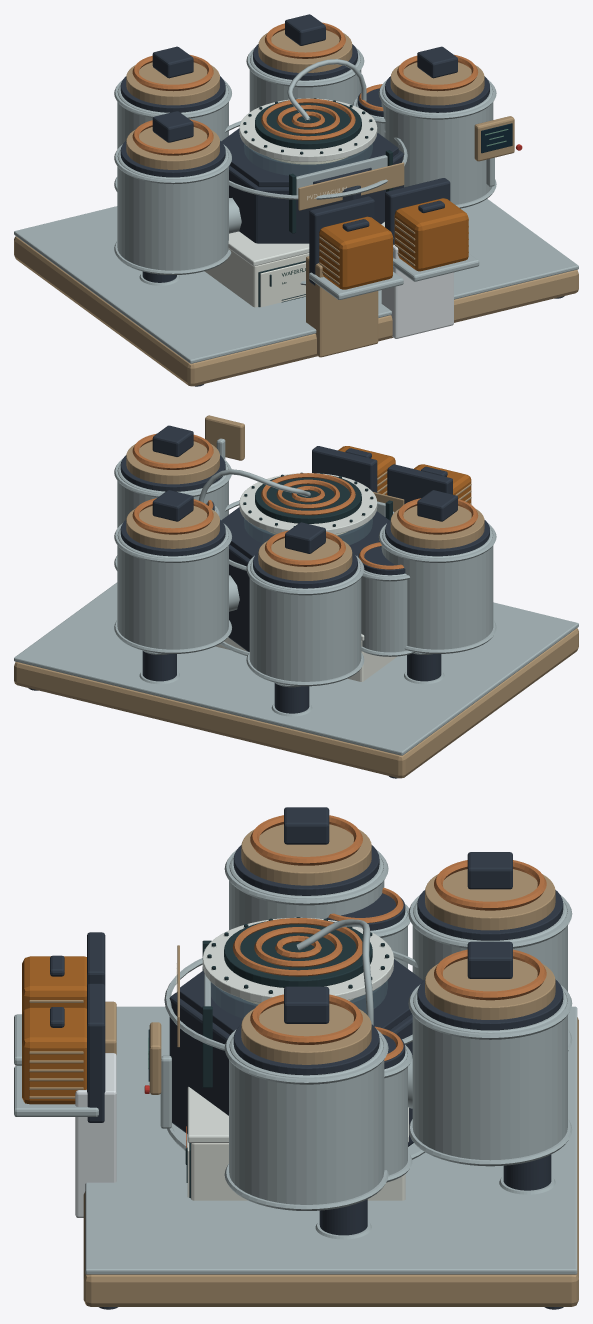
Rendered from equipment-pvd.glb.
3 renders of one model, top to bottom at view 1: azimuth 30°, elevation 25°; view 2: azimuth 150°, elevation 25°; view 3: azimuth 270°, elevation 25°, orthographic. The views are drawn at different scales.
Parts seen in each view (by area): view 1: Raised deck edge, Segmented service plinth, PVD target chamber vessel.003, PVD target chamber vessel, Hexagonal vacuum transfer hub, Independent load port base, Amber wafer transport pod.001, Amber wafer transport pod, Independent load port base.001, Hexagonal vacuum transfer hub top cap, Target backing plate, Vacuum flange.001 (+39 smaller); view 2: Raised deck edge, Segmented service plinth, PVD target chamber vessel.002, PVD target chamber vessel.001, PVD target chamber vessel.003, UHV target preparation chamber, Target backing plate, Magnetron target service cap.003, Magnetron target service cap.002, Magnetron target service cap.001, Magnetron target service cap, Vacuum flange.001 (+36 smaller); view 3: Raised deck edge, PVD target chamber vessel.001, PVD target chamber vessel, Segmented service plinth, Amber wafer transport pod.001, Hexagonal vacuum transfer hub, Magnetron target service cap.003, Magnetron target service cap.002, Magnetron target service cap.001, Magnetron target service cap, Target backing plate, Hexagonal vacuum transfer hub top cap (+41 smaller).
Boxes of the visible parts, x1,y1,x2,y2 form: Raised deck edge: [14, 199, 578, 363]; Segmented service plinth: [14, 236, 578, 386]; PVD target chamber vessel.003: [117, 148, 228, 270]; PVD target chamber vessel: [381, 84, 493, 204]; Hexagonal vacuum transfer hub: [229, 150, 403, 243]; Independent load port base: [306, 256, 378, 357]; Amber wafer transport pod.001: [394, 198, 468, 271]; Amber wafer transport pod: [319, 216, 392, 289]; Independent load port base.001: [381, 245, 453, 338]; Hexagonal vacuum transfer hub top cap: [221, 128, 398, 186]; Target backing plate: [255, 100, 361, 149]; Vacuum flange.001: [239, 98, 377, 161]; Raised deck edge: [14, 582, 578, 755]; Segmented service plinth: [14, 628, 578, 778]; PVD target chamber vessel.002: [249, 560, 361, 681]; PVD target chamber vessel.001: [117, 527, 228, 649]; PVD target chamber vessel.003: [381, 528, 493, 649]; UHV target preparation chamber: [361, 570, 407, 652]; Target backing plate: [255, 475, 361, 523]; Magnetron target service cap.003: [390, 506, 484, 548]; Magnetron target service cap.002: [258, 538, 352, 580]; Magnetron target service cap.001: [126, 506, 219, 548]; Magnetron target service cap: [126, 441, 219, 484]; Vacuum flange.001: [239, 473, 377, 534]; Raised deck edge: [85, 1006, 577, 1274]; PVD target chamber vessel.001: [412, 990, 567, 1160]; PVD target chamber vessel: [229, 1035, 384, 1204]; Segmented service plinth: [83, 1017, 578, 1306]; Amber wafer transport pod.001: [22, 1007, 86, 1104]; Hexagonal vacuum transfer hub: [169, 992, 413, 1146]; Magnetron target service cap.003: [241, 824, 371, 885]; Magnetron target service cap.002: [425, 869, 555, 930]; Magnetron target service cap.001: [425, 958, 555, 1019]; Magnetron target service cap: [241, 1003, 371, 1064]; Target backing plate: [224, 920, 372, 987]; Hexagonal vacuum transfer hub top cap: [180, 959, 423, 1034].
Bounding box in the file's own units: 7.6 × 3.76 × 6.85.
